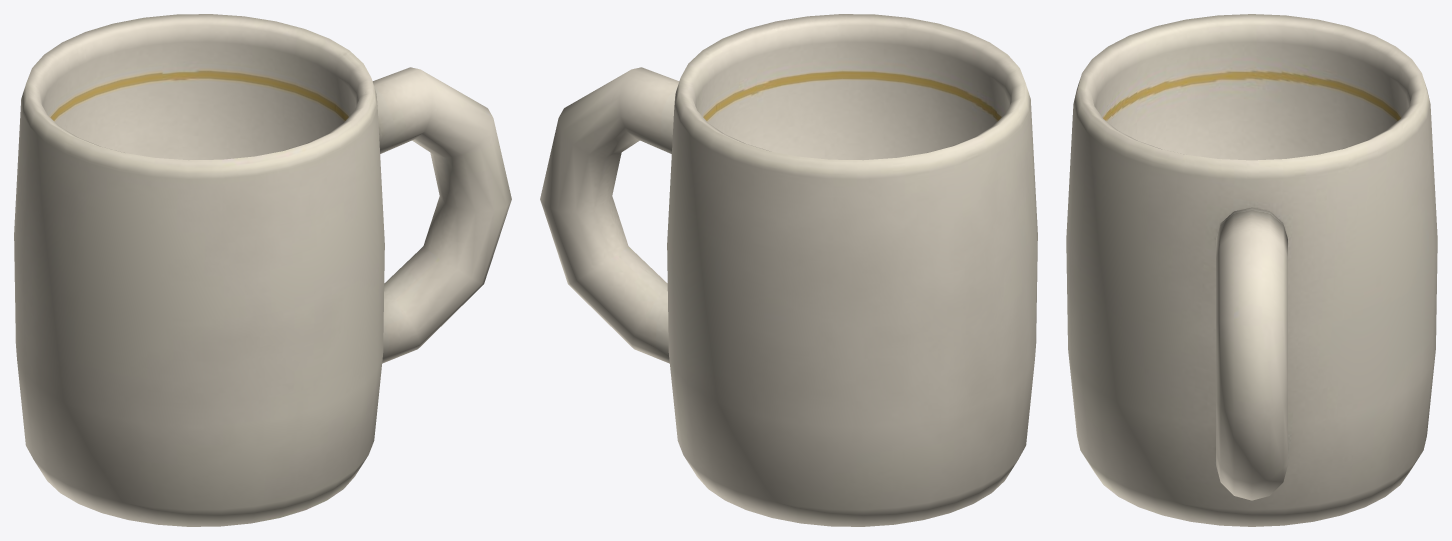
The model's file is mug_corn_b1.glb.
3 renders of one model, left to right at view 1: azimuth 30°, elevation 25°; view 2: azimuth 150°, elevation 25°; view 3: azimuth 270°, elevation 25°, orthographic.
Visible parts, largest first — view 1: prop_mug_corn_b1_felt; view 2: prop_mug_corn_b1_felt; view 3: prop_mug_corn_b1_felt.
Boxes of the visible parts, x1,y1,x2,y2 form: prop_mug_corn_b1_felt: (14, 14, 511, 526); prop_mug_corn_b1_felt: (540, 14, 1037, 526); prop_mug_corn_b1_felt: (1066, 14, 1437, 526).
Bounding box in the file's own units: 0.1907 × 0.1447 × 0.131.
Materials: 1 (1 with a texture image).
